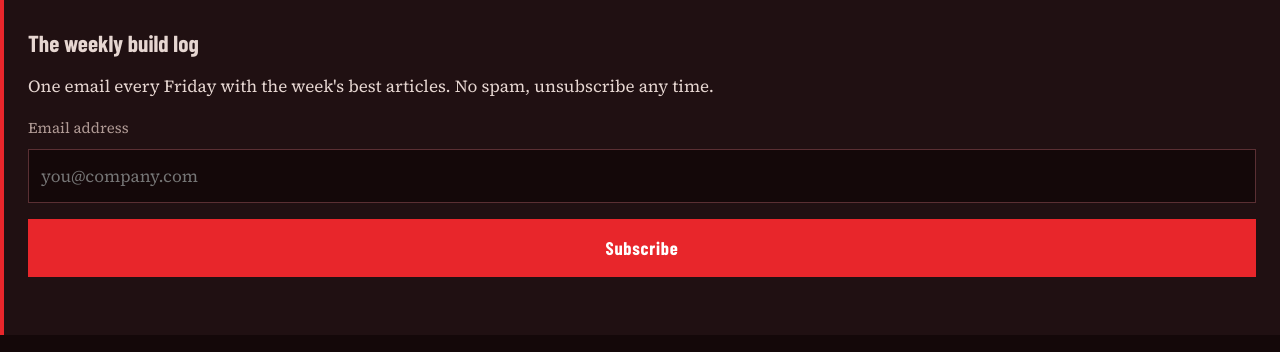
Test case: NewsletterForm › displays error message for invalid email
In the field labelled "Email address": x=642, y=176 [28, 148, 1256, 202], type "invalid-email"
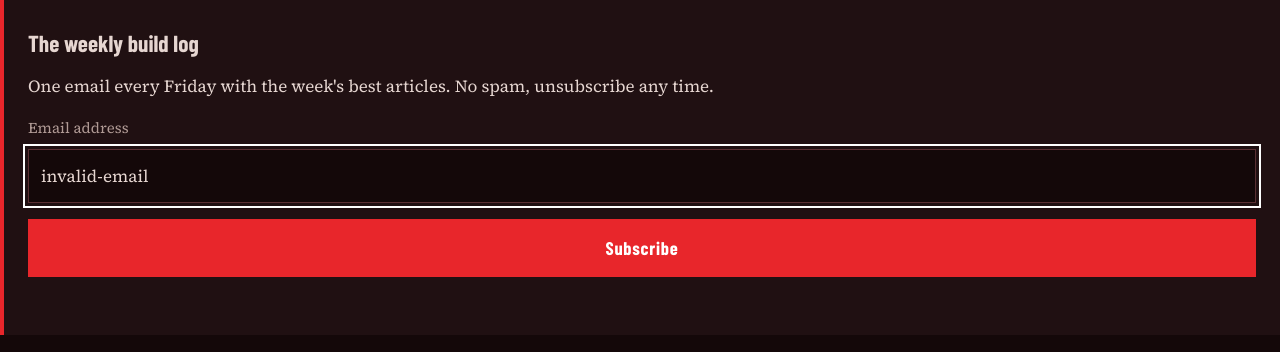
Click the button "Subscribe": x=642, y=248 [28, 219, 1256, 277]
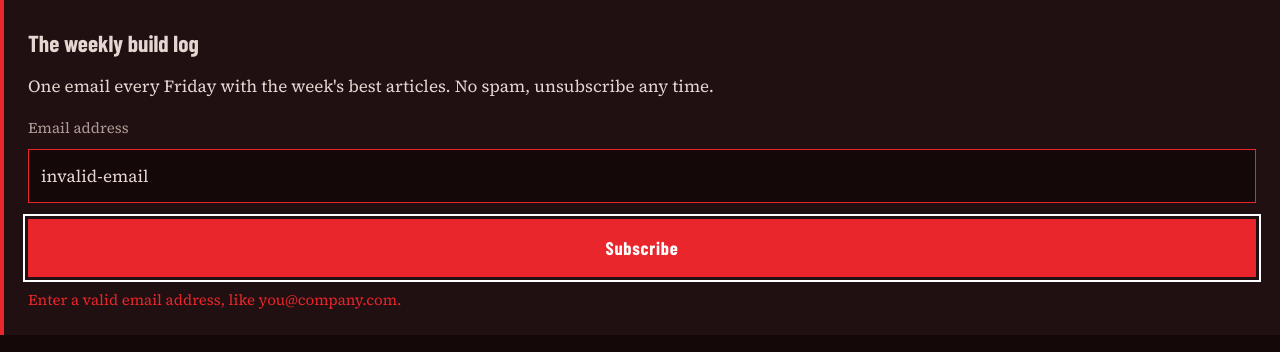
expect the message shows "Enter a valid email address": met, box [28, 289, 402, 310]
